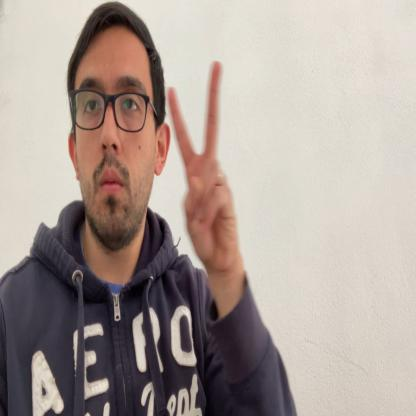V: (168, 61, 237, 274)
